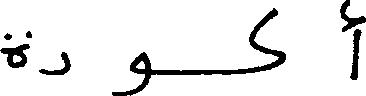X: (251, 3, 283, 77), (341, 0, 365, 84), (113, 47, 149, 95), (0, 26, 28, 72), (41, 47, 69, 79)
